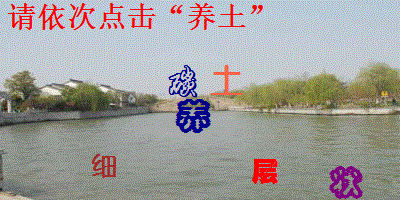text: (175, 98, 212, 135), (328, 166, 365, 200), (210, 64, 245, 97), (168, 65, 198, 99), (251, 157, 280, 185), (90, 153, 119, 179)
